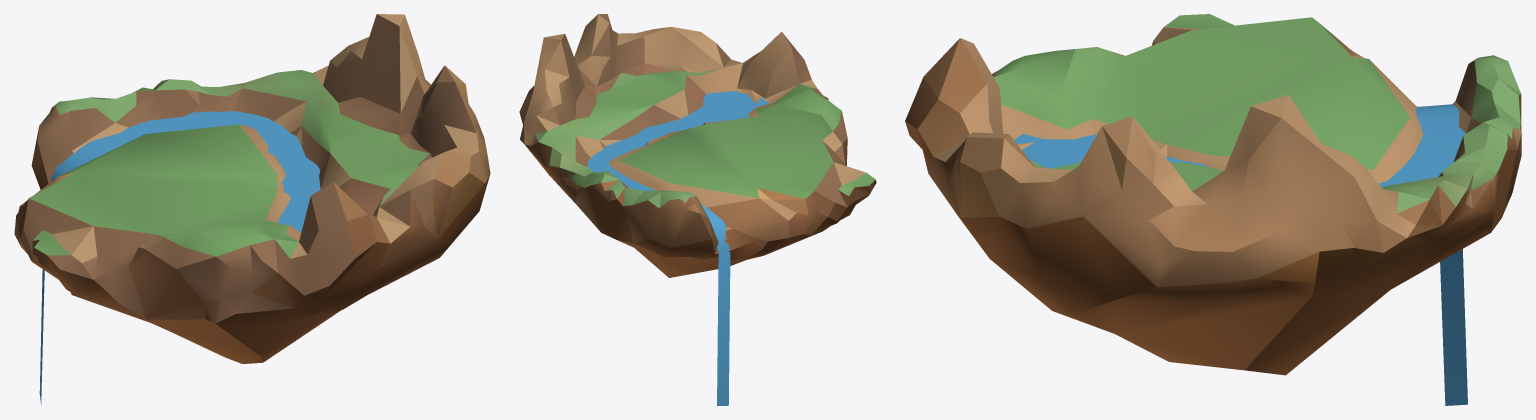
The model's file is Island_1.fbx.
3 views of the same model, side by side, from view 1: azimuth 30°, elevation 25°; view 2: azimuth 150°, elevation 25°; view 3: azimuth 270°, elevation 25° (orthographic). The views are drawn at different scales.
Visible parts, largest first — view 1: Cube, Circle; view 2: Cube, Circle; view 3: Cube, Circle.
Part boxes in pixels (left/top/right/bottom): Cube: left=14, top=14, right=490, bottom=363; Circle: left=39, top=111, right=320, bottom=404; Cube: left=519, top=14, right=876, bottom=277; Circle: left=587, top=91, right=768, bottom=405; Cube: left=905, top=14, right=1521, bottom=375; Circle: left=1014, top=104, right=1467, bottom=405.
Bounding box in the file's own units: 1329 × 1089 × 1236.
